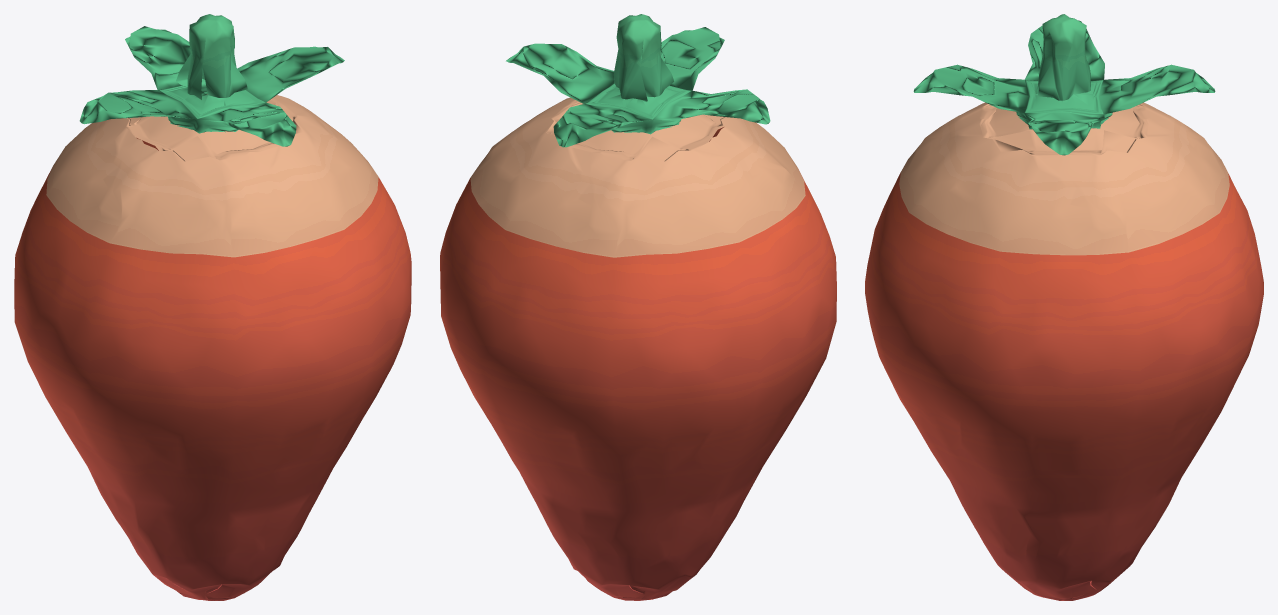
3 renders of one model, left to right at view 1: azimuth 30°, elevation 25°; view 2: azimuth 150°, elevation 25°; view 3: azimuth 270°, elevation 25°, orthographic.
Bounding box in the file's own units: 0.6253 × 0.9898 × 0.6253.
Materials: 1 (1 with a texture image).
